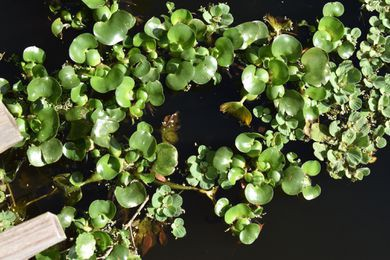water_hyacinth: (4, 1, 388, 258)
